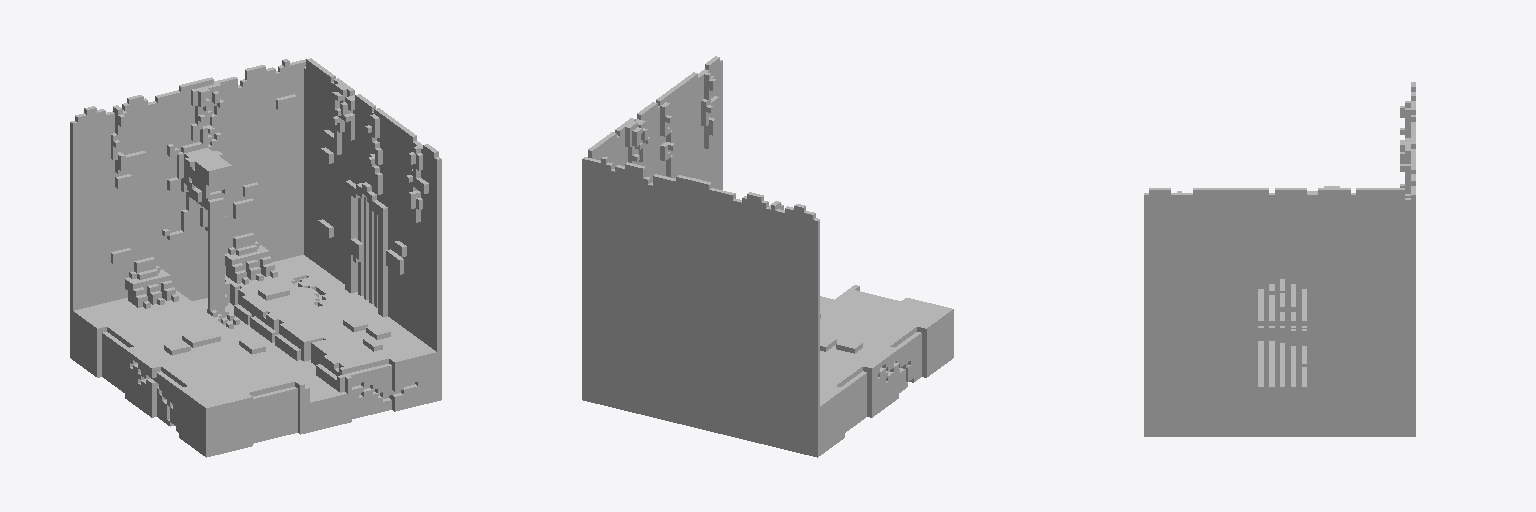
File: Dragon Room.obj
3 renders of one model, left to right at view 1: azimuth 30°, elevation 25°; view 2: azimuth 150°, elevation 25°; view 3: azimuth 270°, elevation 25°, orthographic.
Parts seen in each view (by area): view 1: object 1; view 2: object 1; view 3: object 1.
Part boxes in pixels (x1,y1,x2,y2): object 1: (70, 58, 441, 457); object 1: (582, 56, 953, 457); object 1: (1144, 82, 1415, 436).
Bounding box in the file's own units: 5 × 5 × 5.